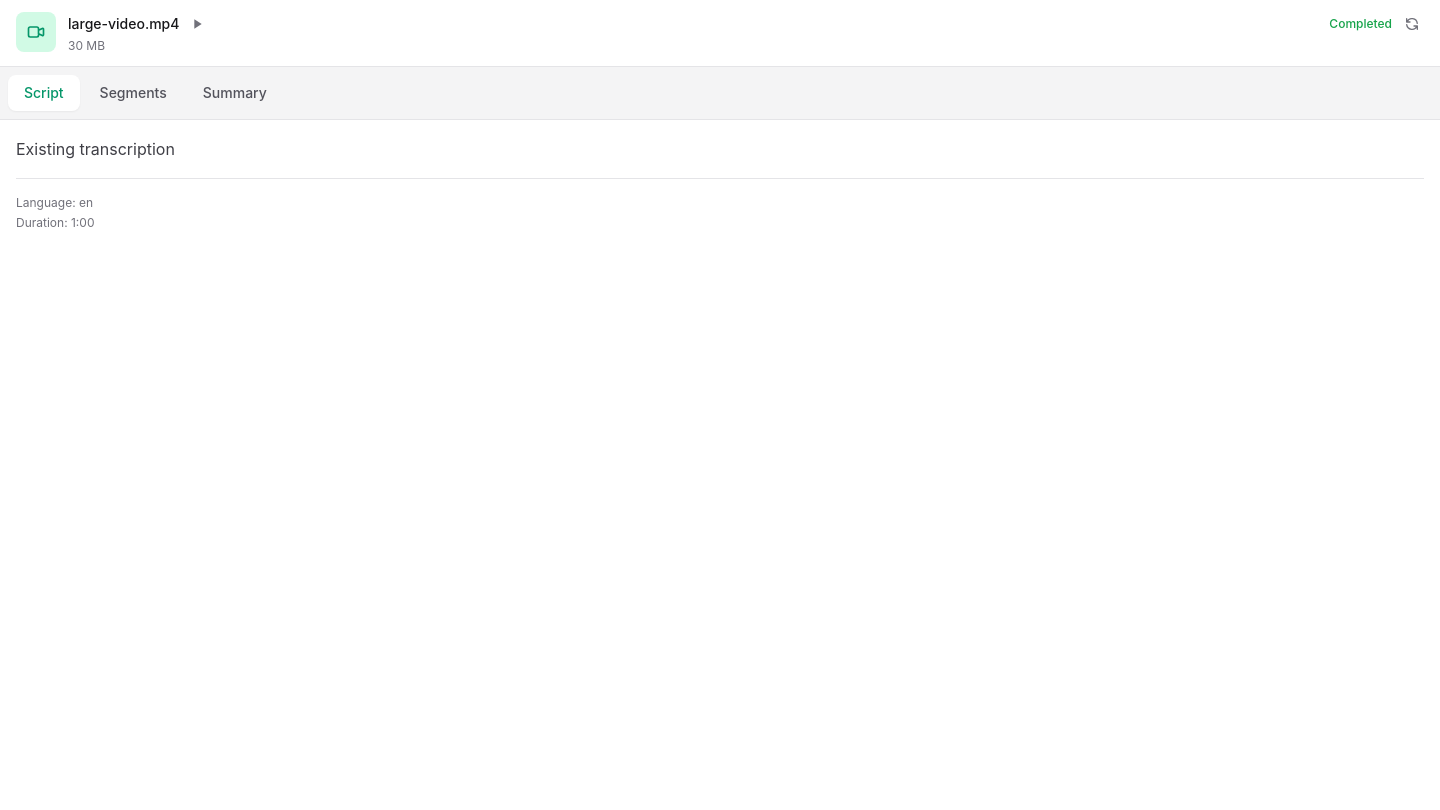
Test: Inspector › OpenAI file size warning › shows toast and preserves transcription when retranscribe clicked on 25MB+ file with OpenAI
The width and height of the screenshot is (1440, 810).
Expected: the text "Completed" is shown, x1=1329 y1=16 x2=1392 y2=32
# Click retranscribe button
Click the button named "re-transcribe" at (1412, 24), box x1=1400 y1=12 x2=1424 y2=36
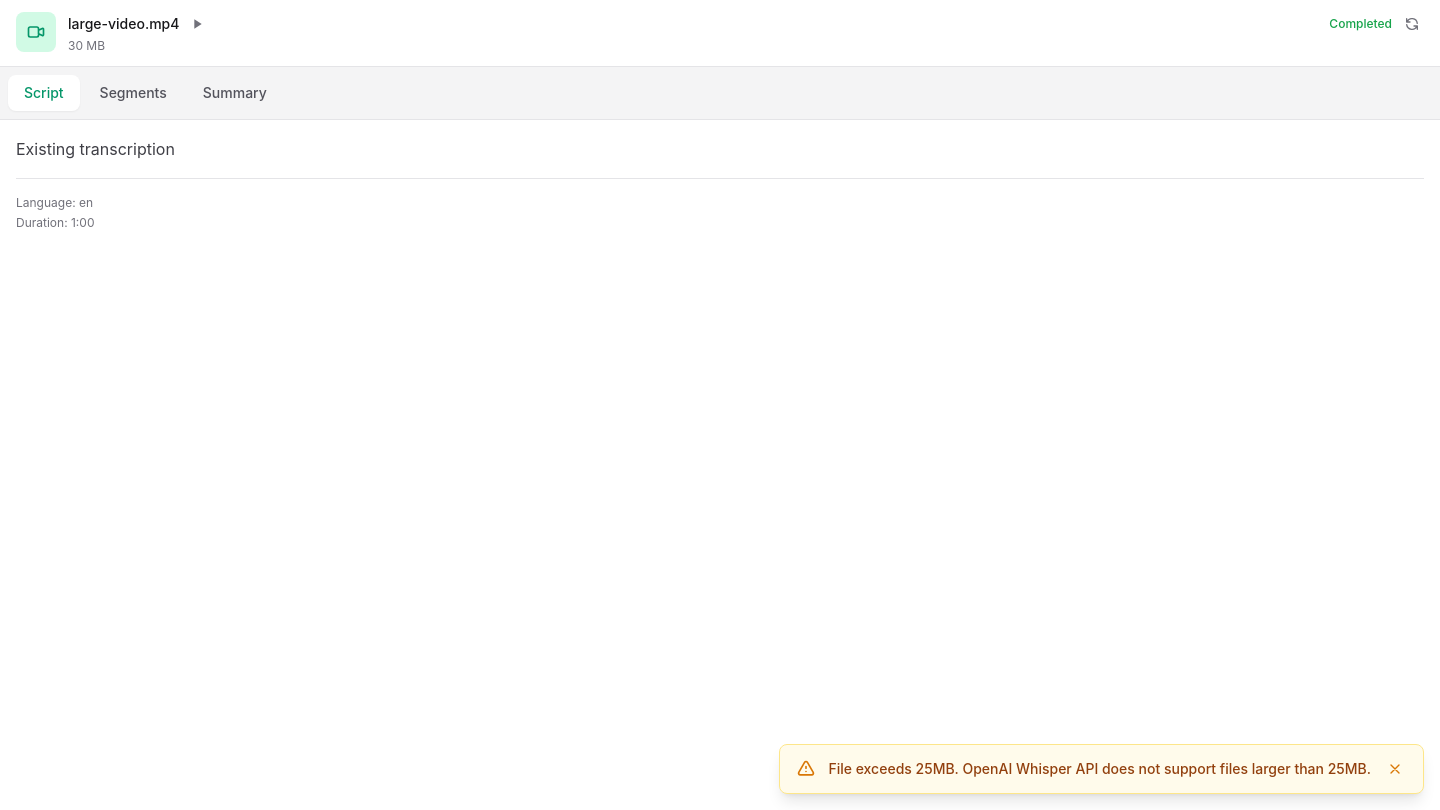
Expected: the text "Existing transcription" is shown, x1=16 y1=139 x2=175 y2=159
Result: the message "File exceeds 25MB. OpenAI Whisper API does not support files larger than 25MB." is shown at x1=779 y1=744 x2=1424 y2=794
